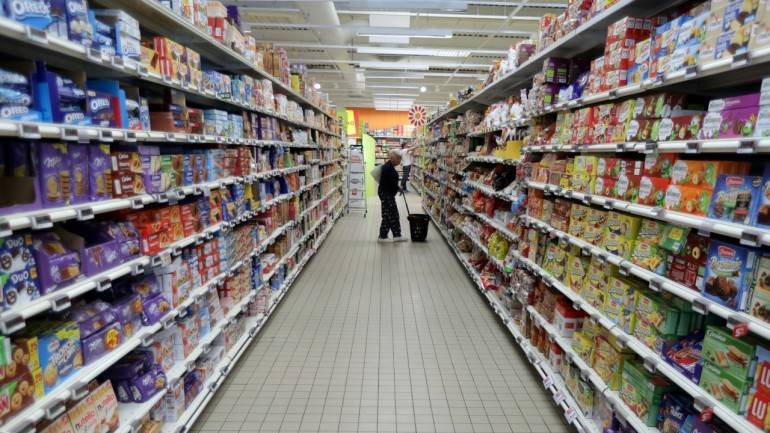Age_above_50: (388, 149, 404, 166)
E_Asian: (388, 149, 404, 166)
Emotion_Neutral: (388, 149, 404, 166)
G_ Female: (388, 149, 404, 166)
